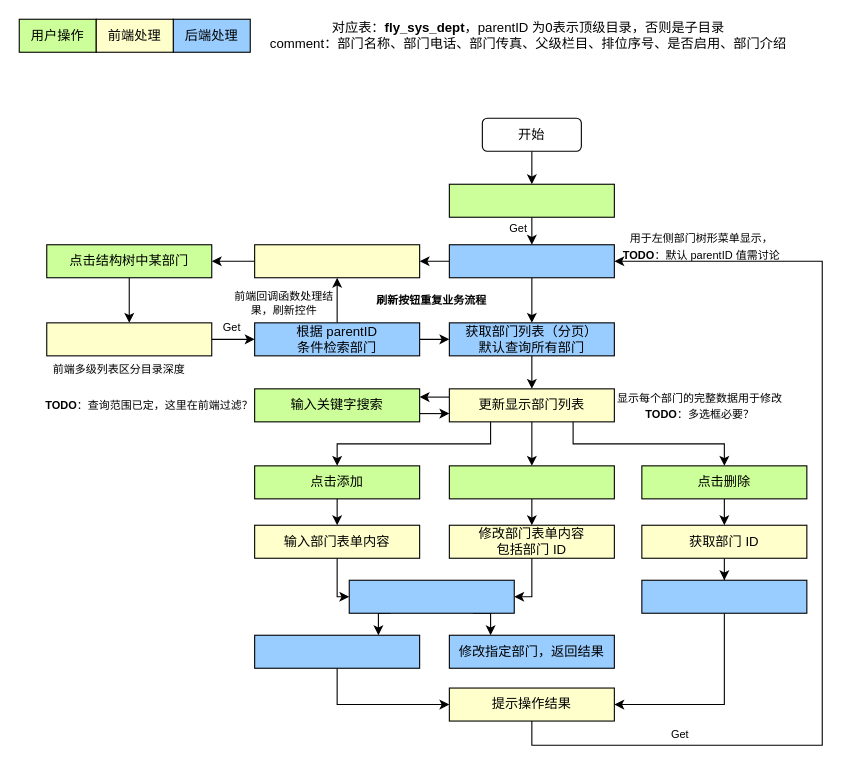
Some shapes in this 850 by 773 pixel diagram are drawn without their labels. Here are the shapes that lost their labels. From the top down, the centre of each, then its label:
At [531,200]: "点击组织结构-部门管理".
At [337,261]: "更新显示部门名称结构树".
At [531,261]: "获取部门名称结构树 默认查询parentID=0的部门".
At [129,339]: "获取目录深度、父级目录ID（如果有）".
At [531,482]: "点击修改".
At [431,596]: "获取部门名称列表数据 用于输入表单下拉列表".
At [724,596]: "删除指定部门，返回结果".
At [337,651]: "添加部门，返回结果".
